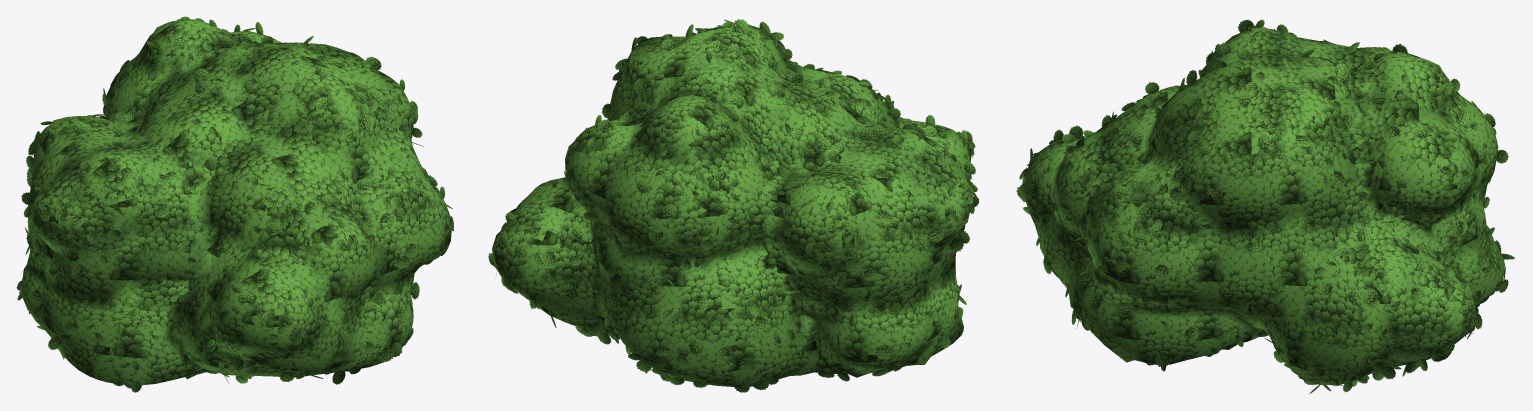
Rendered from ballbush_v2_s31769.gltf.
3 views of the same model, side by side, from view 1: azimuth 30°, elevation 25°; view 2: azimuth 150°, elevation 25°; view 3: azimuth 270°, elevation 25° (orthographic). The views are drawn at different scales.
Visible parts, largest first — view 1: ballbush_v2_s31769_volume_LOD0, ballbush_v2_s31769_leaves_LOD0; view 2: ballbush_v2_s31769_volume_LOD0, ballbush_v2_s31769_leaves_LOD0; view 3: ballbush_v2_s31769_volume_LOD0, ballbush_v2_s31769_leaves_LOD0.
Boxes of the visible parts, box(x1,y1,x2,y2) form: ballbush_v2_s31769_volume_LOD0: box(21, 19, 451, 385); ballbush_v2_s31769_leaves_LOD0: box(16, 16, 453, 392); ballbush_v2_s31769_volume_LOD0: box(492, 24, 971, 386); ballbush_v2_s31769_leaves_LOD0: box(488, 19, 979, 392); ballbush_v2_s31769_volume_LOD0: box(1024, 27, 1504, 385); ballbush_v2_s31769_leaves_LOD0: box(1016, 19, 1514, 393).
Size of what is drawn, in the model's own units: 2.2 by 1.5 by 2.3.
Materials: 2 (2 with a texture image).
